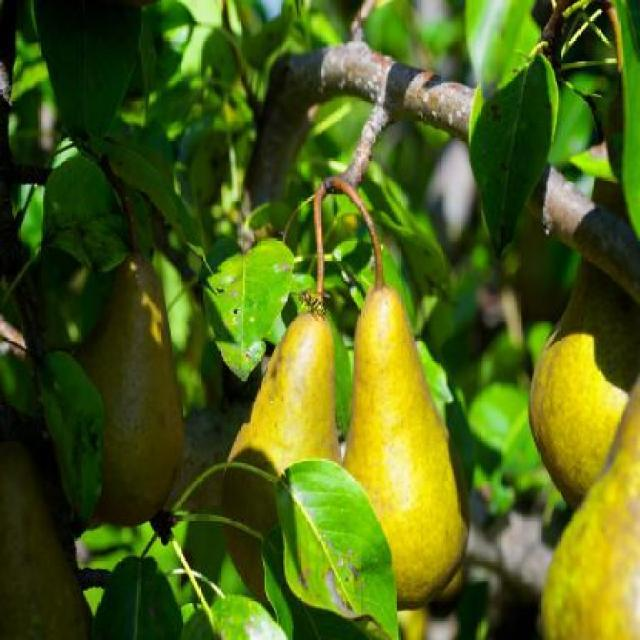Pear: (341, 284, 474, 612), (527, 154, 640, 513), (222, 312, 341, 614), (78, 254, 188, 528), (540, 374, 638, 638), (0, 433, 95, 639)
